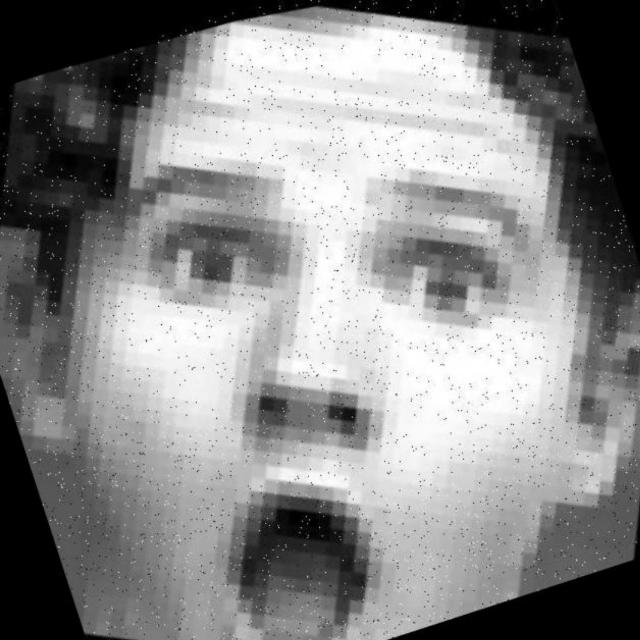Surprised: (19, 47, 640, 640)
